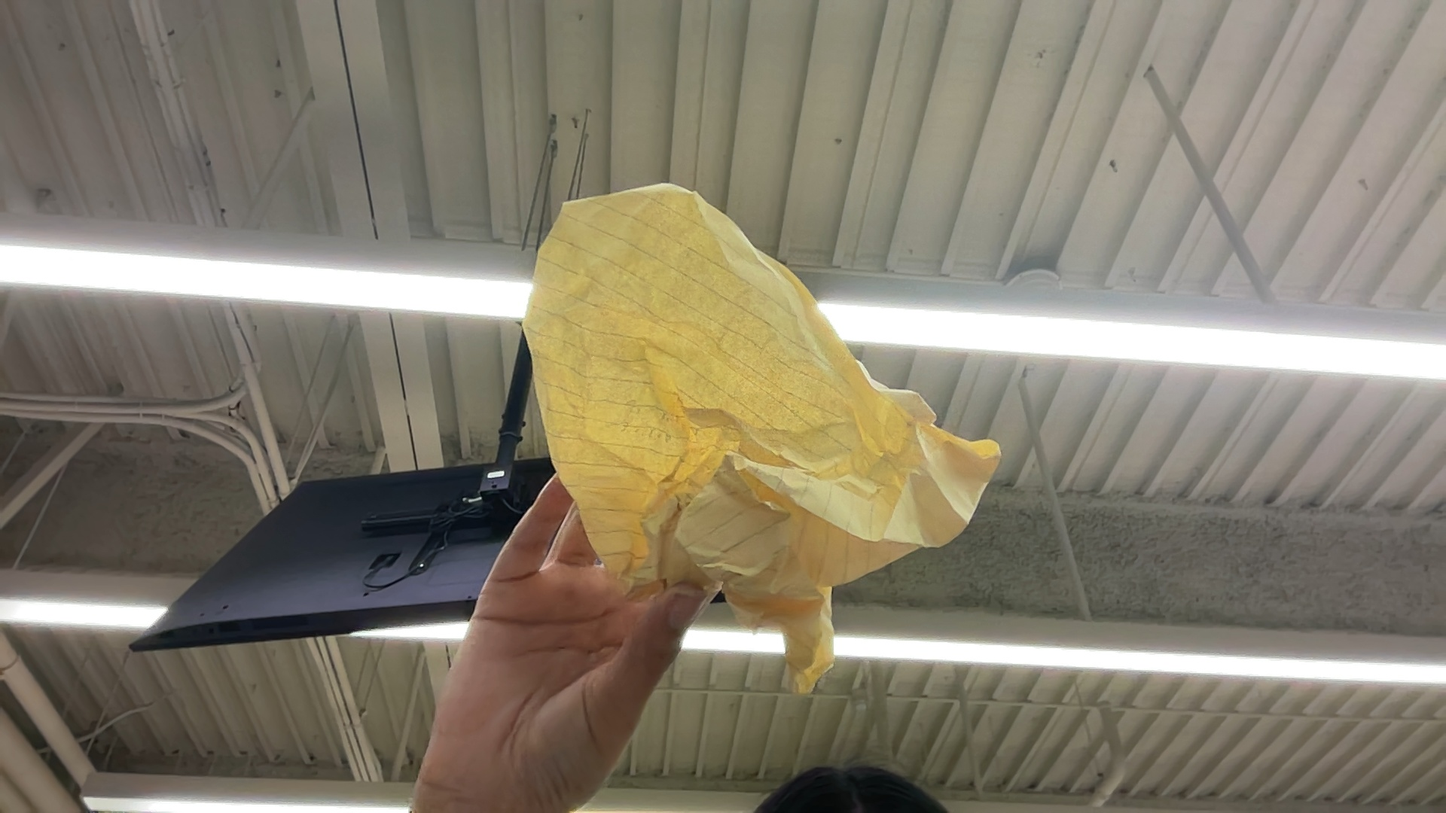Paper: (681, 625, 785, 651)
